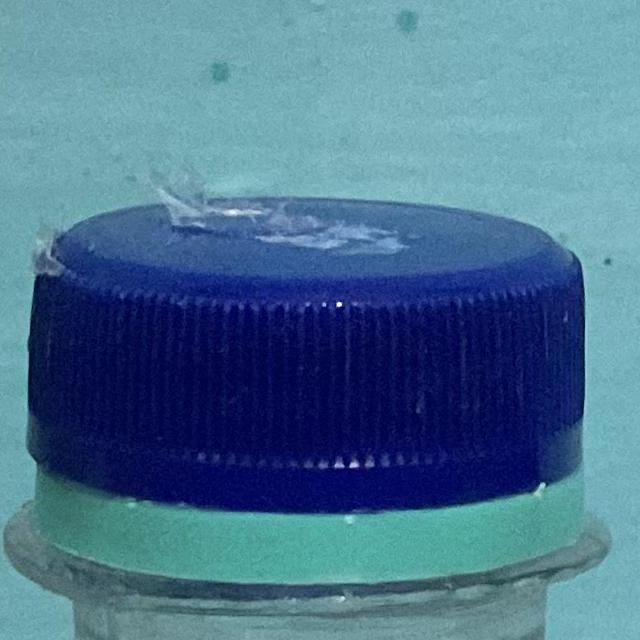Good-cap-Df0S: (0, 174, 622, 577)
